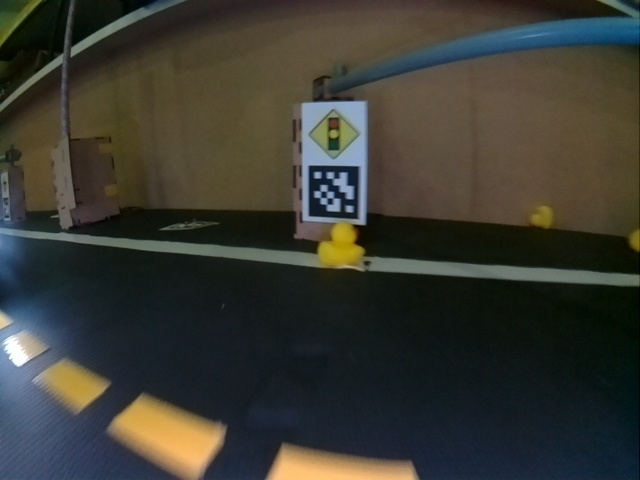Duckie: (319, 222, 364, 266), (529, 206, 552, 228)
QR code: (304, 164, 360, 221), (160, 219, 218, 231)
Signal sign: (306, 108, 363, 162)
